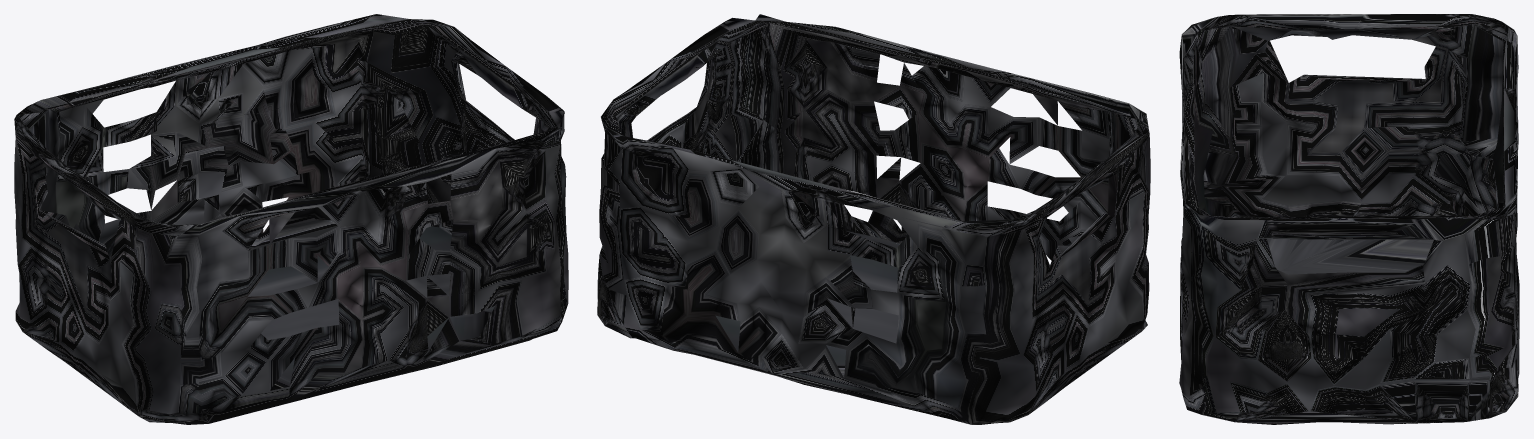
Rendered from gso_curver_storage_bin_black_small.glb.
The picture shows the model from 3 angles, left to right: view 1: azimuth 30°, elevation 25°; view 2: azimuth 150°, elevation 25°; view 3: azimuth 270°, elevation 25°; orthographic projection.
Visible parts, largest first — view 1: z-up-to-y-up; view 2: z-up-to-y-up; view 3: z-up-to-y-up.
Part boxes in pixels (box(x1,y1,x2,y2)): z-up-to-y-up: box(14, 14, 568, 424); z-up-to-y-up: box(597, 14, 1150, 424); z-up-to-y-up: box(1179, 14, 1519, 424).
Size of the model in its own units: 0.2853 by 0.1335 by 0.1925.
1 material, 1 textured.
